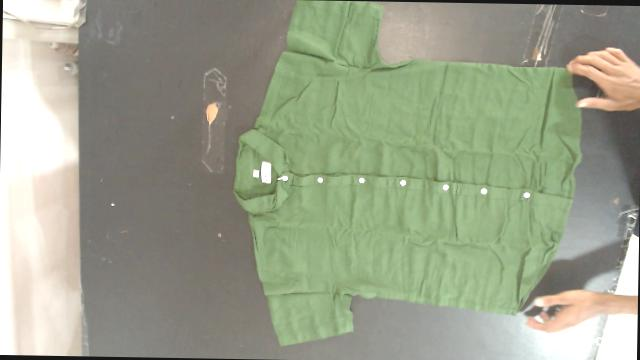new-garment: (234, 0, 581, 344)
